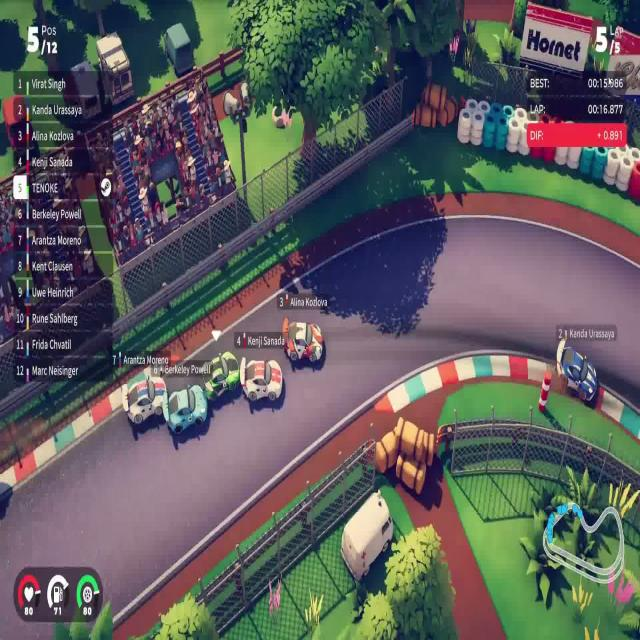car: (557, 338, 598, 406), (161, 382, 208, 436), (125, 374, 166, 427), (239, 356, 283, 404), (282, 316, 324, 366), (202, 350, 240, 403)
